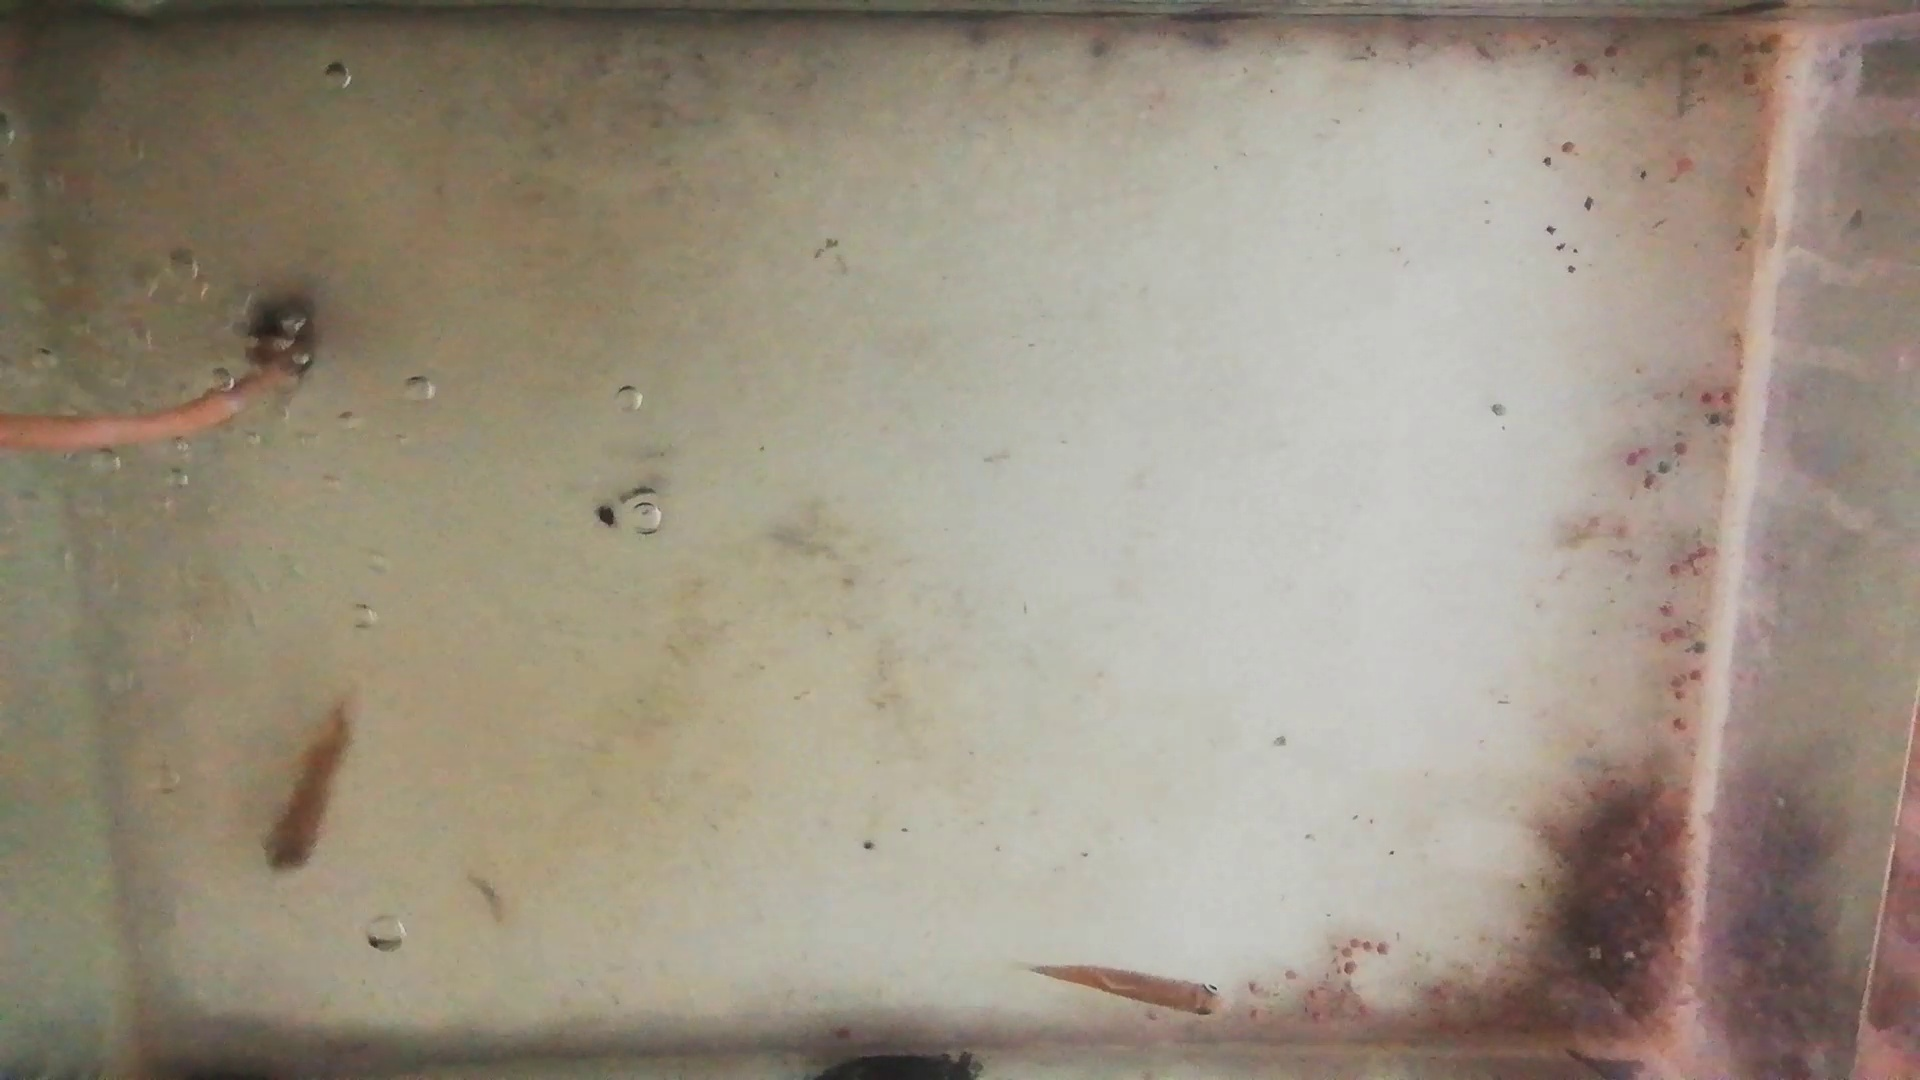fish: (262, 702, 357, 873), (1036, 959, 1228, 1017)
